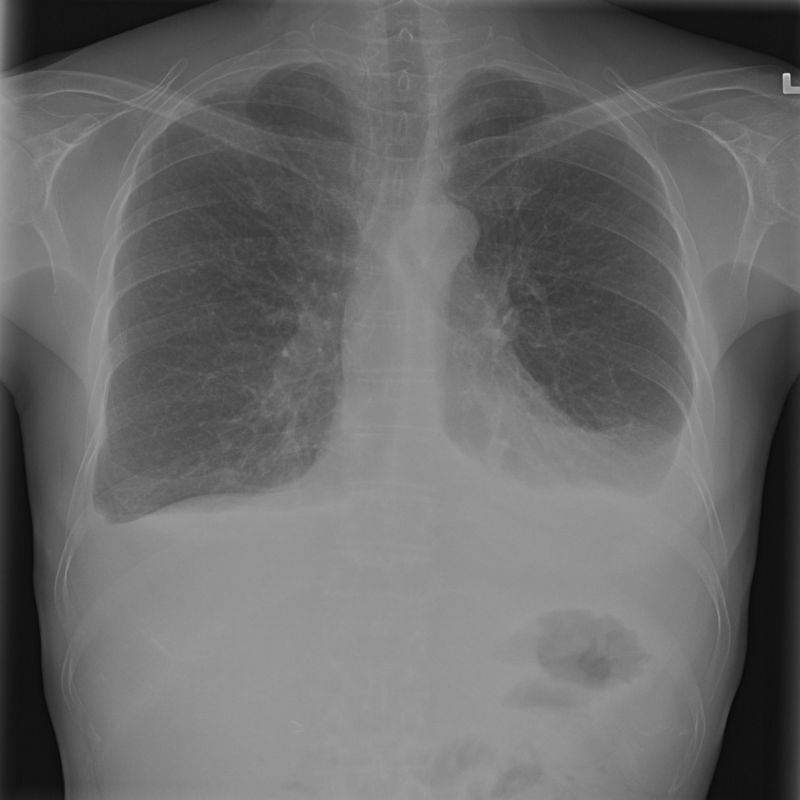Pleural Effusion: (526, 420, 718, 595)
